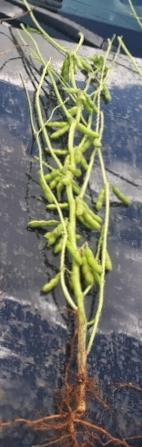soja: (82, 205, 107, 230), (77, 255, 97, 286), (62, 241, 85, 266), (42, 227, 65, 250), (84, 202, 108, 224), (73, 211, 95, 235), (25, 216, 61, 230), (112, 184, 133, 208), (37, 174, 54, 202), (40, 273, 65, 292), (74, 121, 101, 138), (89, 248, 102, 276), (49, 125, 73, 140), (41, 225, 63, 241), (53, 236, 69, 258), (73, 138, 95, 154), (78, 154, 94, 175), (104, 243, 115, 273), (94, 189, 109, 211), (79, 95, 94, 116), (48, 118, 74, 130), (86, 93, 103, 111), (101, 82, 117, 101), (63, 59, 76, 82), (74, 60, 92, 76), (43, 147, 69, 158), (49, 175, 65, 190), (64, 106, 82, 119), (80, 53, 93, 71), (71, 182, 86, 197), (76, 196, 84, 223), (44, 204, 71, 211), (90, 139, 104, 150), (54, 182, 62, 200), (63, 86, 82, 93)
